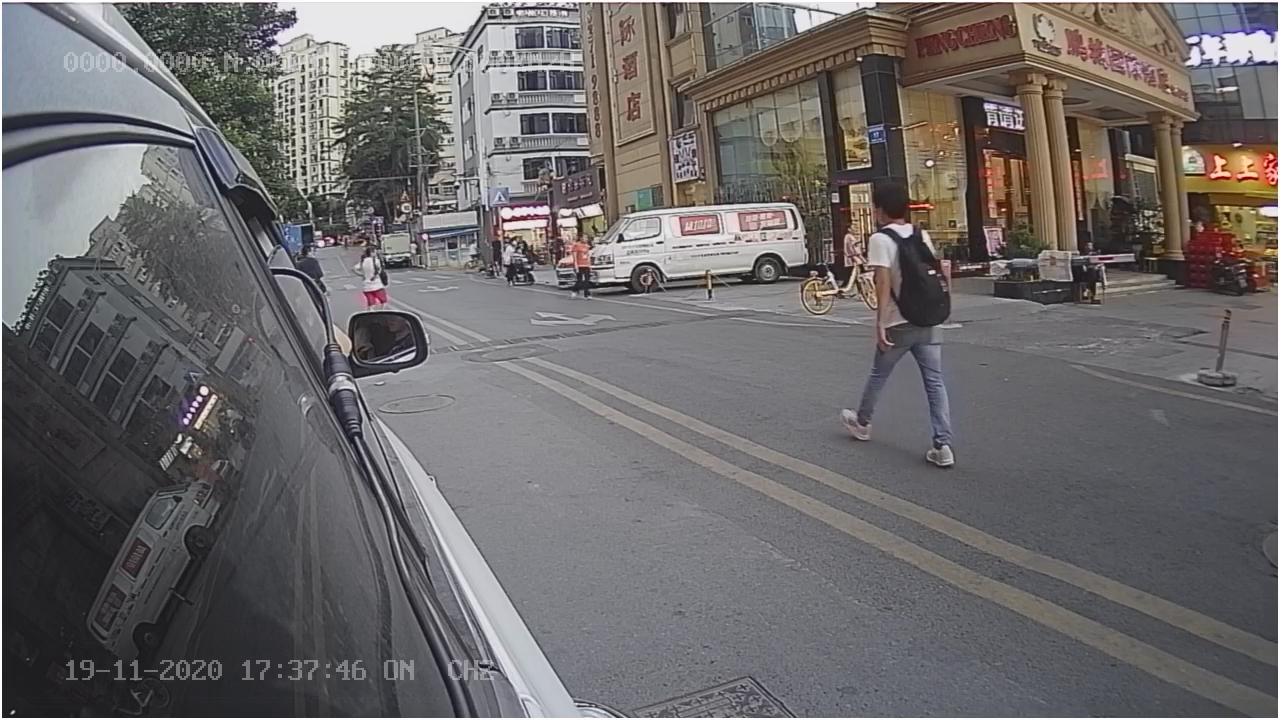person: (864, 179, 960, 426)
